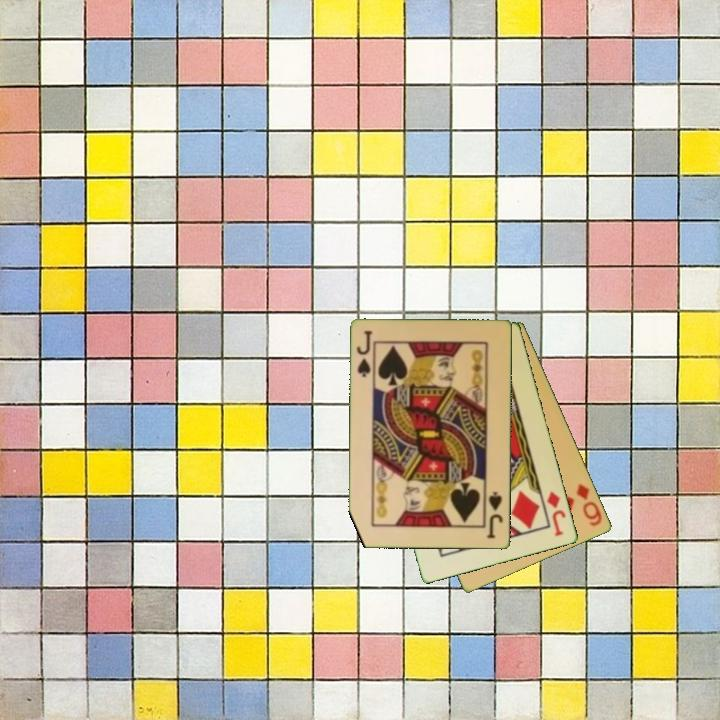6d: (573, 480, 605, 529)
Jd: (543, 488, 569, 539)
Js: (484, 489, 506, 541), (354, 328, 376, 380)
